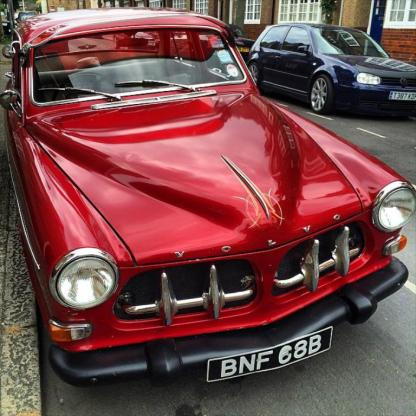Car: (1, 1, 416, 390), (245, 21, 414, 116), (232, 29, 255, 66), (15, 10, 36, 22)
